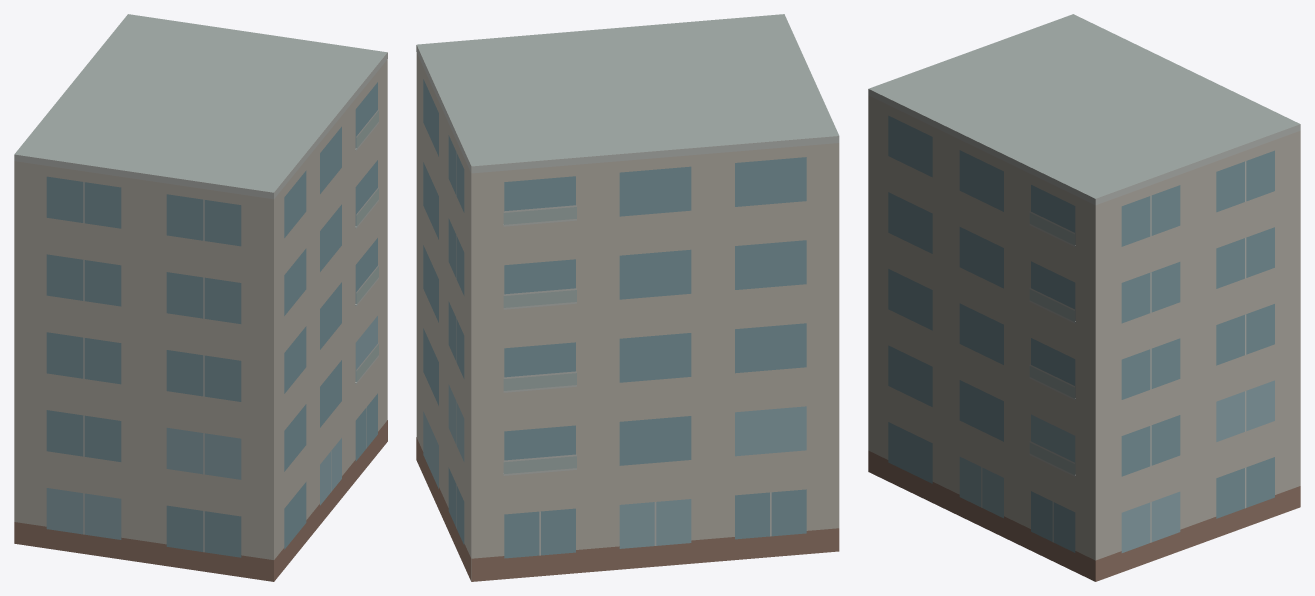
The model's file is survey-upis-32638316.glb.
3 renders of one model, left to right at view 1: azimuth 30°, elevation 25°; view 2: azimuth 150°, elevation 25°; view 3: azimuth 270°, elevation 25°, orthographic. The views are drawn at different scales.
Parts seen in each view (by area): view 1: survey-upis-32638316.tmp; view 2: survey-upis-32638316.tmp; view 3: survey-upis-32638316.tmp.
Part boxes in pixels (bbox=[...]): survey-upis-32638316.tmp: bbox=[14, 14, 387, 581]; survey-upis-32638316.tmp: bbox=[416, 14, 839, 581]; survey-upis-32638316.tmp: bbox=[868, 14, 1300, 581].
Size of the model in its own units: 14.91 by 14.4 by 14.74.
